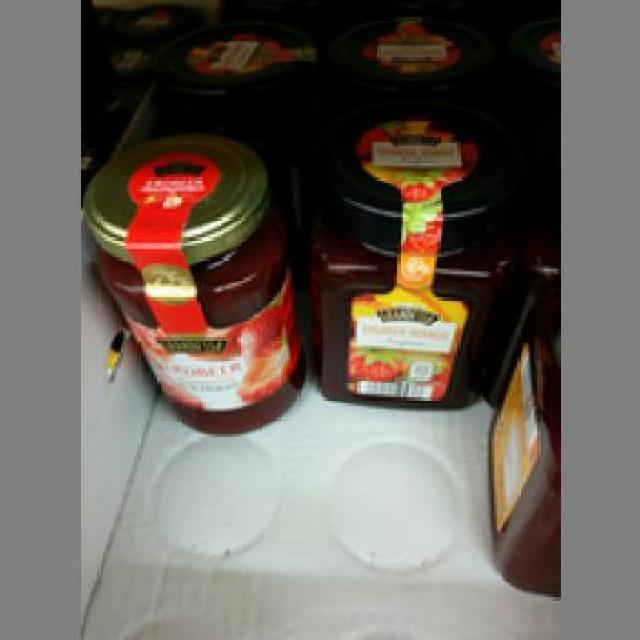Jam: (80, 132, 303, 432), (316, 108, 509, 412)
